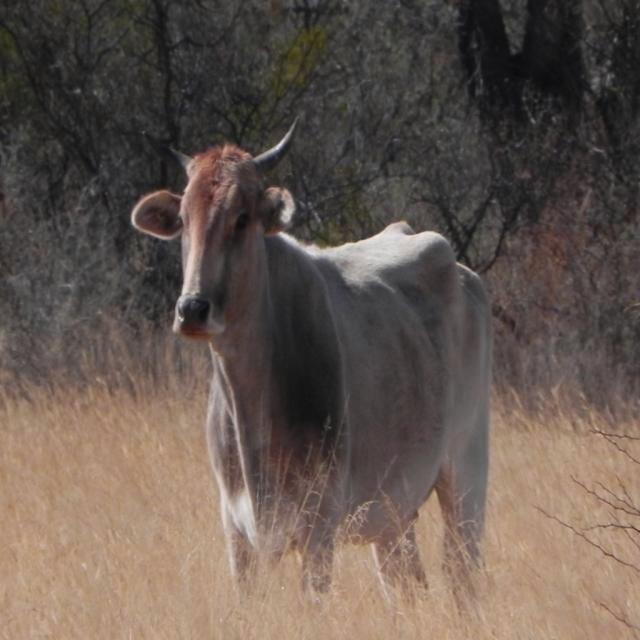cow: (131, 126, 490, 591)
